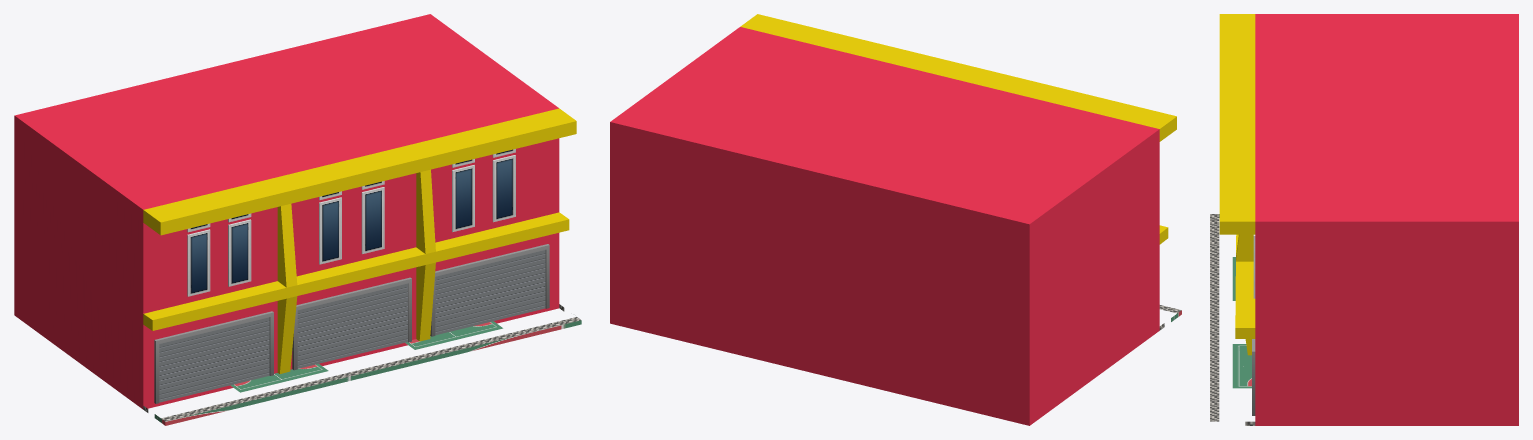
File: RukoBesar4.fbx
3 views of the same model, side by side, from view 1: azimuth 30°, elevation 25°; view 2: azimuth 150°, elevation 25°; view 3: azimuth 270°, elevation 25° (orthographic). The views are drawn at different scales.
Visible parts, largest first — view 1: Body1RukoBesar4_LOD0, Body2RukoBesar4_LOD0; view 2: Body1RukoBesar4_LOD0, Body2RukoBesar4_LOD0; view 3: Body1RukoBesar4_LOD0, Body2RukoBesar4_LOD0.
Boxes of the visible parts, x1,y1,x2,y2 form: Body1RukoBesar4_LOD0: [14, 14, 581, 425]; Body2RukoBesar4_LOD0: [143, 108, 576, 373]; Body1RukoBesar4_LOD0: [610, 27, 1181, 425]; Body2RukoBesar4_LOD0: [740, 14, 1176, 244]; Body1RukoBesar4_LOD0: [1210, 14, 1518, 425]; Body2RukoBesar4_LOD0: [1219, 14, 1255, 355].
Size of what is drawn, in the model's own units: 1471 by 675 by 924.
